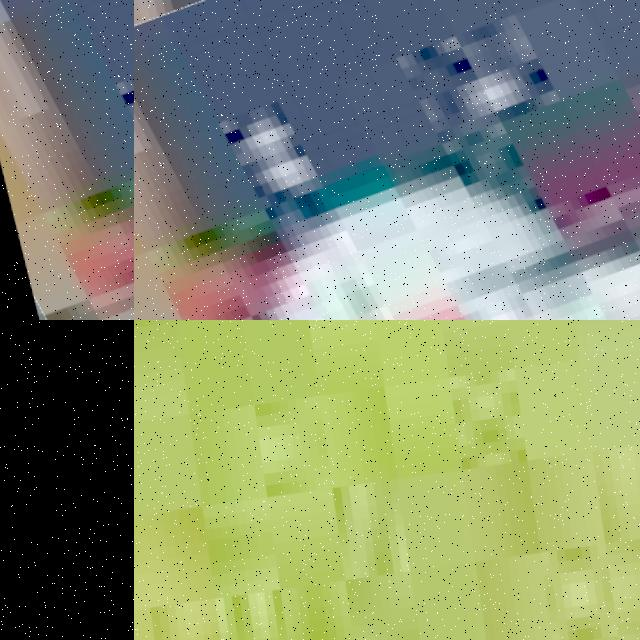0: (134, 0, 640, 320), (0, 0, 134, 320)
drone: (0, 320, 134, 640)
